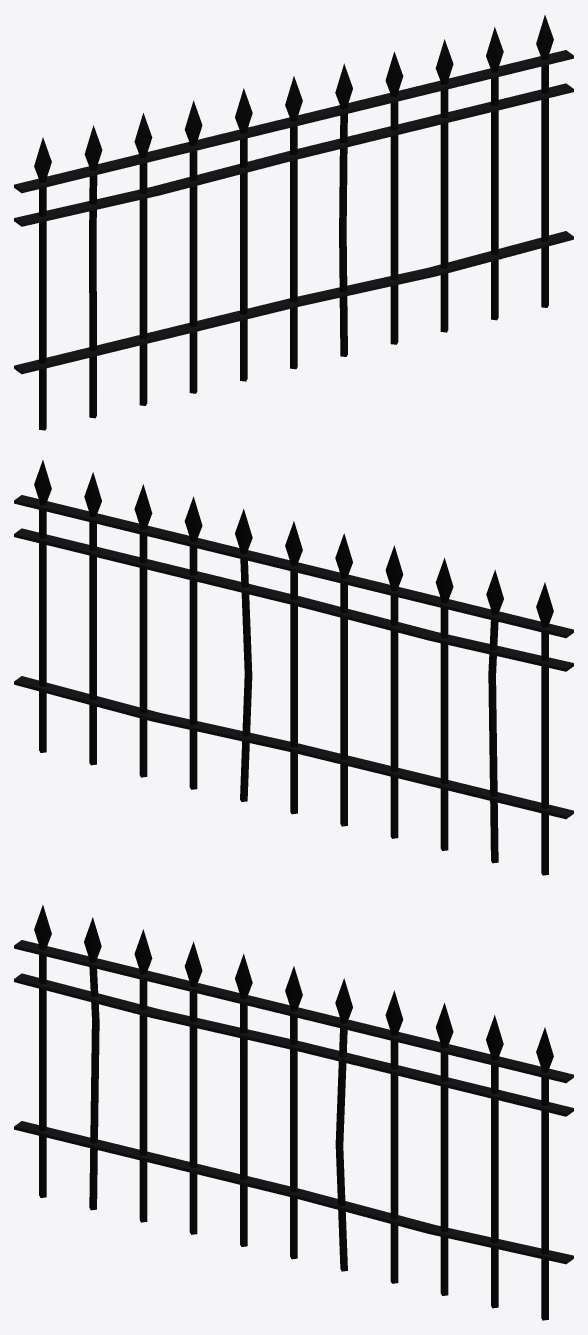
Rendered from fence.fbx.
3 renders of one model, top to bottom at view 1: azimuth 30°, elevation 25°; view 2: azimuth 150°, elevation 25°; view 3: azimuth 330°, elevation 25°, orthographic.
Visible parts, largest first — view 1: Tomb04_b; view 2: Tomb04_b; view 3: Tomb04_b.
Part boxes in pixels (x1,y1,x2,y2): Tomb04_b: (14,15,573,430); Tomb04_b: (14,460,573,875); Tomb04_b: (14,905,573,1320).
Bounding box in the file's own units: 197 × 4.88 × 99.48.
1 material, 1 textured.
